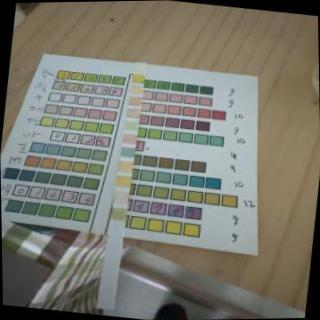mark: (112, 209, 126, 220), (126, 109, 140, 118), (120, 162, 132, 172), (115, 192, 127, 202), (122, 148, 134, 157), (116, 177, 128, 186), (125, 134, 135, 143), (131, 86, 142, 94), (133, 74, 144, 82), (126, 122, 136, 130), (129, 98, 139, 105), (136, 64, 146, 70)
